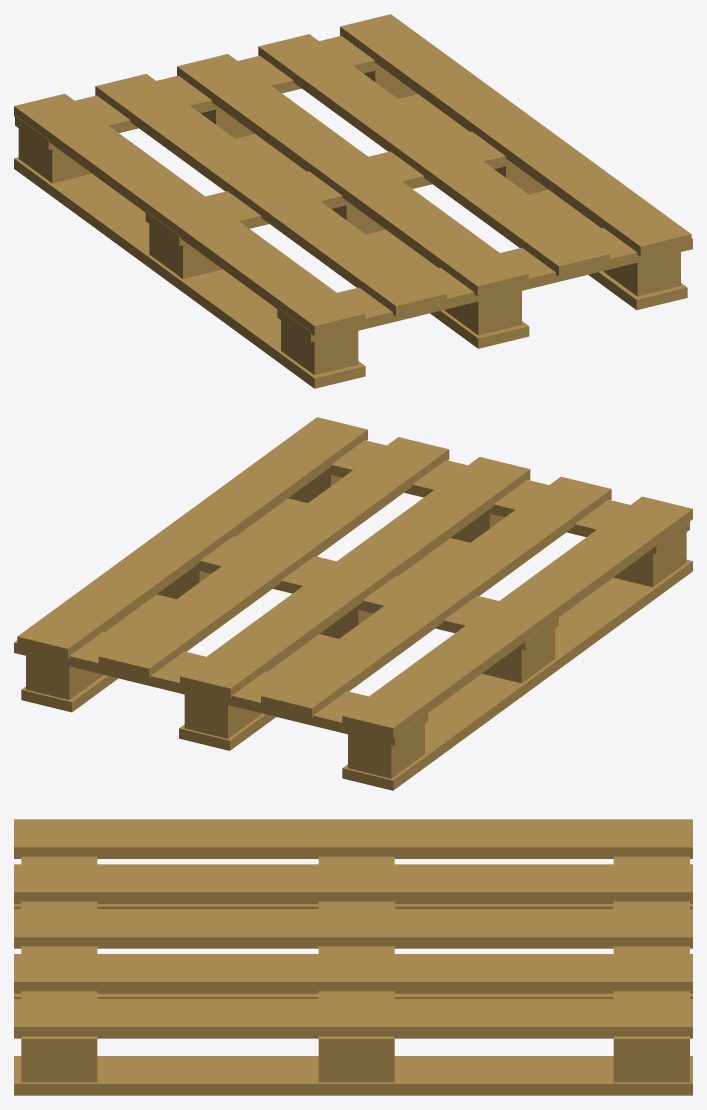
File: Pallet.gltf
The picture shows the model from 3 angles, top to bottom: view 1: azimuth 30°, elevation 25°; view 2: azimuth 150°, elevation 25°; view 3: azimuth 270°, elevation 25°; orthographic projection. The views are drawn at different scales.
Parts seen in each view (by area): view 1: Pallet; view 2: Pallet; view 3: Pallet.
Boxes of the visible parts, left/top/right/bottom form: Pallet: left=14, top=14, right=692, bottom=388; Pallet: left=14, top=417, right=692, bottom=790; Pallet: left=14, top=819, right=692, bottom=1095.
Bounding box in the file's own units: 0.8925 × 0.14 × 1.22.
1 material, 1 textured.
